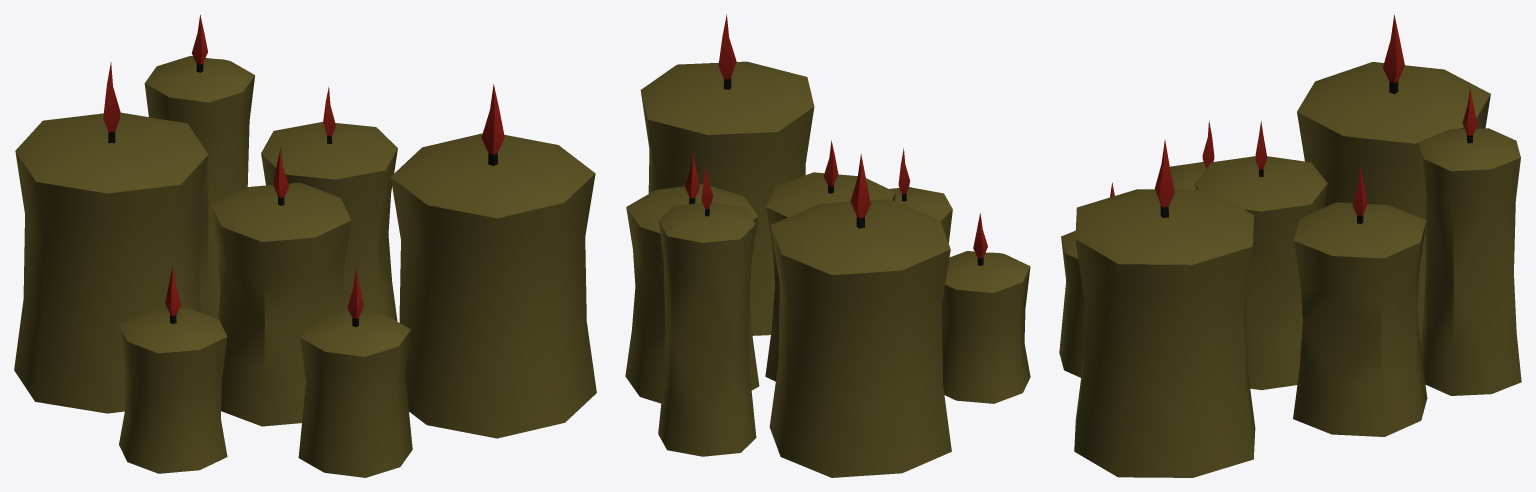
File: Candles_1.obj
3 views of the same model, side by side, from view 1: azimuth 30°, elevation 25°; view 2: azimuth 150°, elevation 25°; view 3: azimuth 270°, elevation 25° (orthographic). The views are drawn at different scales.
Visible parts, largest first — view 1: Candles_1_Cube.001; view 2: Candles_1_Cube.001; view 3: Candles_1_Cube.001.
Boxes of the visible parts, x1=… form: Candles_1_Cube.001: x1=14, y1=15, x2=596, y2=477; Candles_1_Cube.001: x1=625, y1=14, x2=1030, y2=477; Candles_1_Cube.001: x1=1059, y1=15, x2=1521, y2=477.
Size of the model in its own units: 0.881 by 0.6067 by 0.8436.
